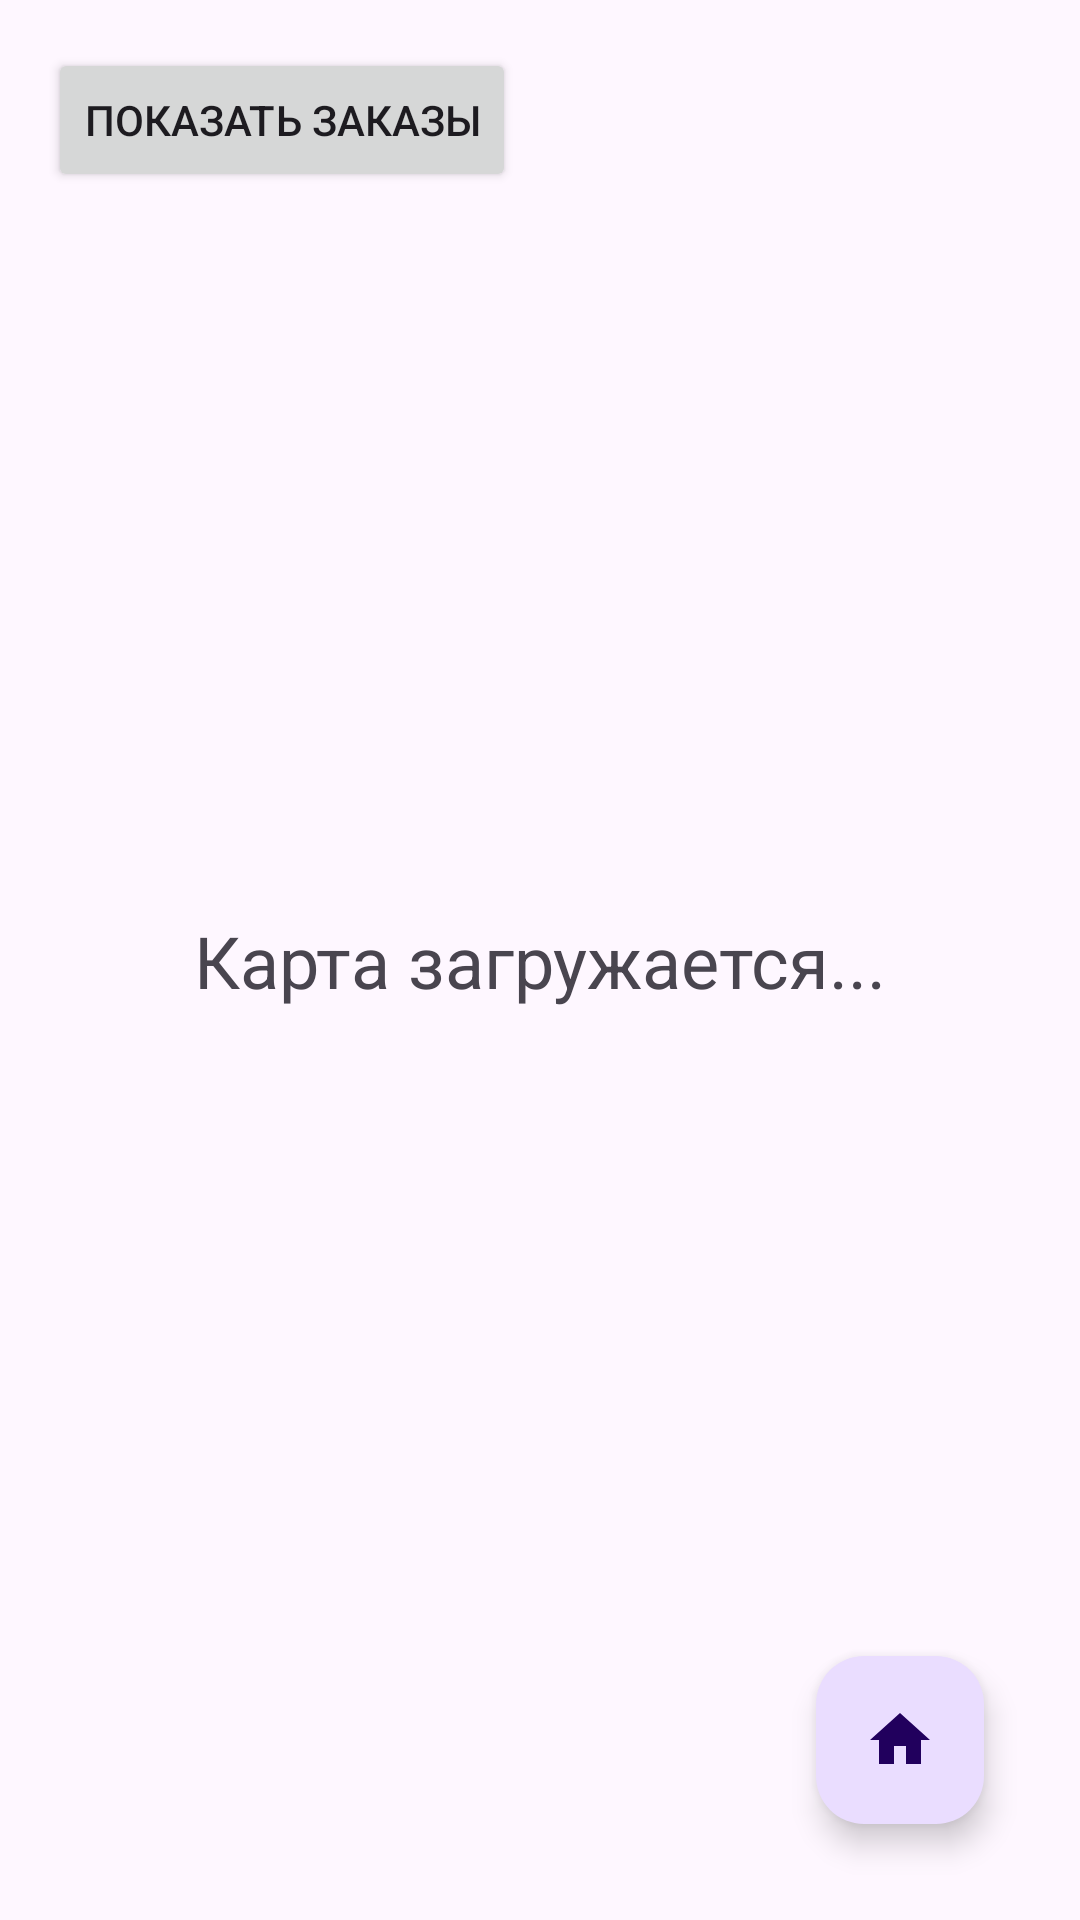

Named icons in this screenshot (1080 × 1920) and their centers, point (x, y):
home: point (900, 1740)
